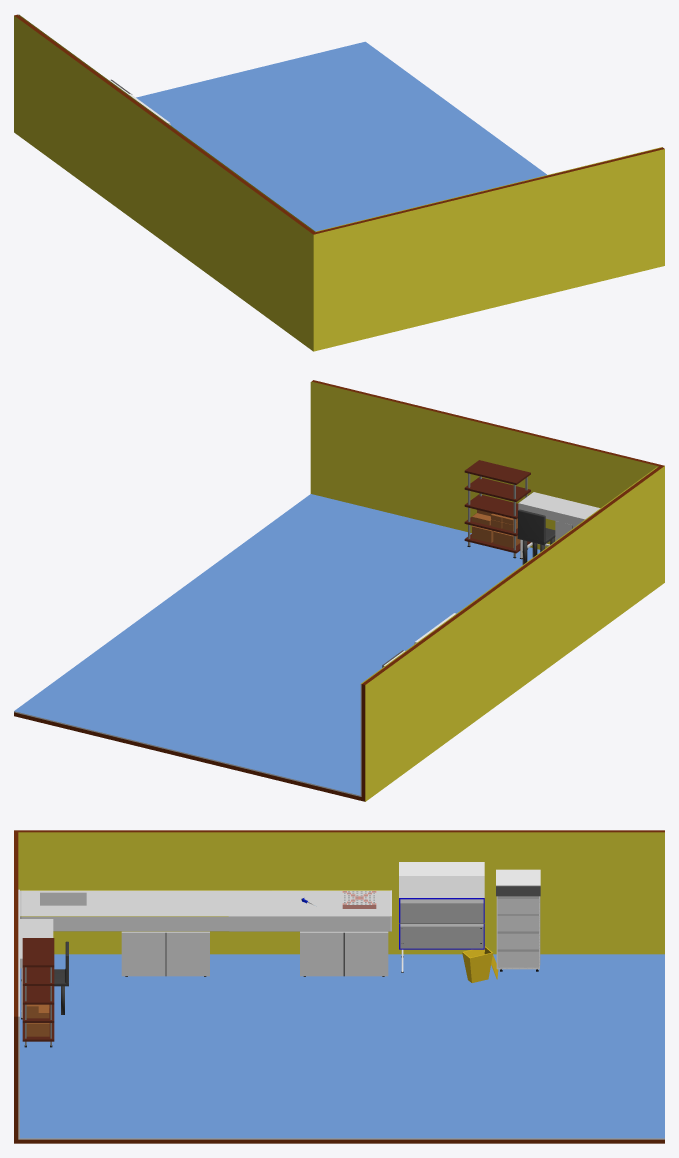
File: LAB.fbx
The picture shows the model from 3 angles, top to bottom: view 1: azimuth 30°, elevation 25°; view 2: azimuth 150°, elevation 25°; view 3: azimuth 270°, elevation 25°; orthographic projection. The views are drawn at different scales.
Visible parts, largest first — view 1: Cube; view 2: Cube, Cube.003, Cube.004, Cube.001; view 3: Cube, case1, body1, body2, case 2, Cube.003, Cube.007, Cube.008, Cube.004, tube holder.
Part boxes in pixels (bbox=[...]): Cube: bbox=[14, 14, 664, 351]; Cube: bbox=[14, 380, 664, 801]; Cube.003: bbox=[464, 460, 530, 553]; Cube.004: bbox=[518, 492, 600, 525]; Cube.001: bbox=[517, 509, 555, 545]; Cube: bbox=[14, 830, 664, 1143]; case1: bbox=[399, 862, 484, 949]; body1: bbox=[121, 931, 209, 976]; body2: bbox=[300, 931, 388, 976]; case 2: bbox=[496, 896, 540, 969]; Cube.003: bbox=[22, 938, 54, 1041]; Cube.007: bbox=[496, 869, 540, 896]; Cube.008: bbox=[462, 946, 492, 982]; Cube.004: bbox=[20, 919, 53, 968]; tube holder: bbox=[342, 891, 376, 908].
Bounding box in the file's own units: 1262 × 401 × 1863.
